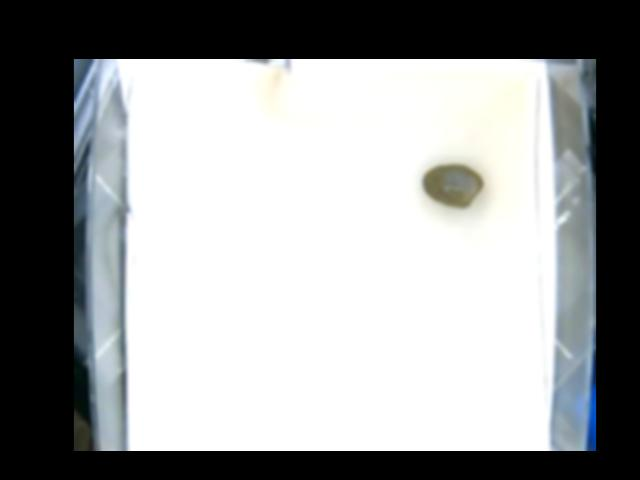Pebble: (423, 162, 485, 208)
